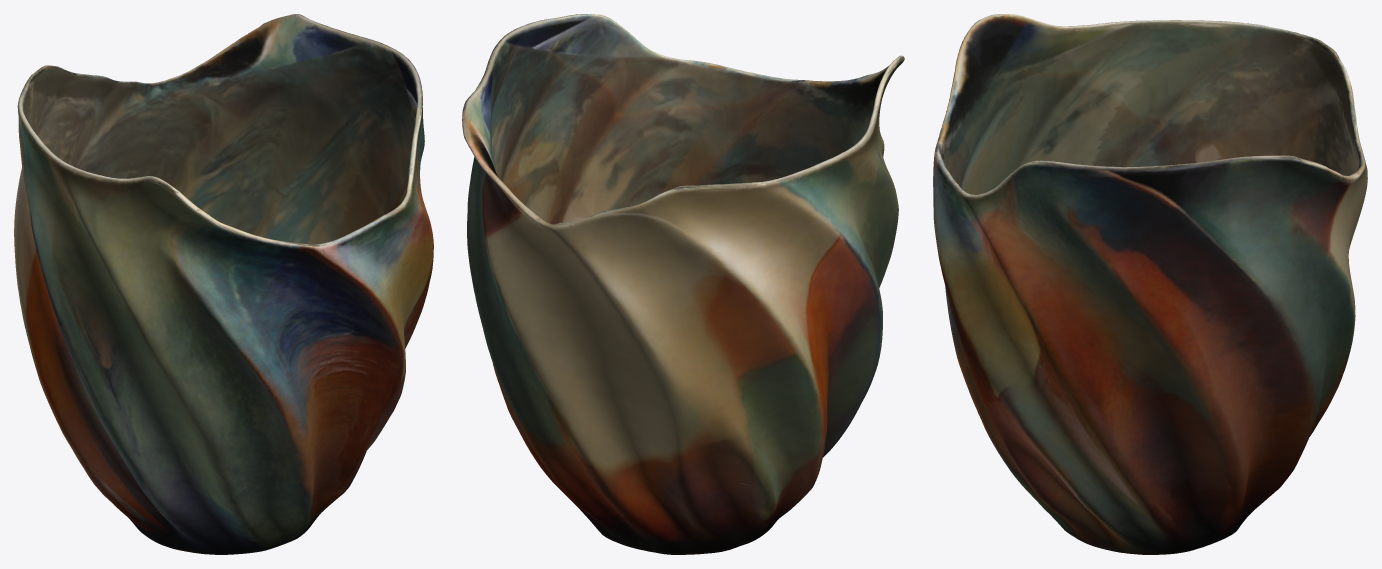
The model's file is vase1.glb.
The picture shows the model from 3 angles, left to right: view 1: azimuth 30°, elevation 25°; view 2: azimuth 150°, elevation 25°; view 3: azimuth 270°, elevation 25°; orthographic projection. The views are drawn at different scales.
Size of the model in its own units: 1.77 by 2 by 1.8.
Materials: 1 (1 with a texture image).
